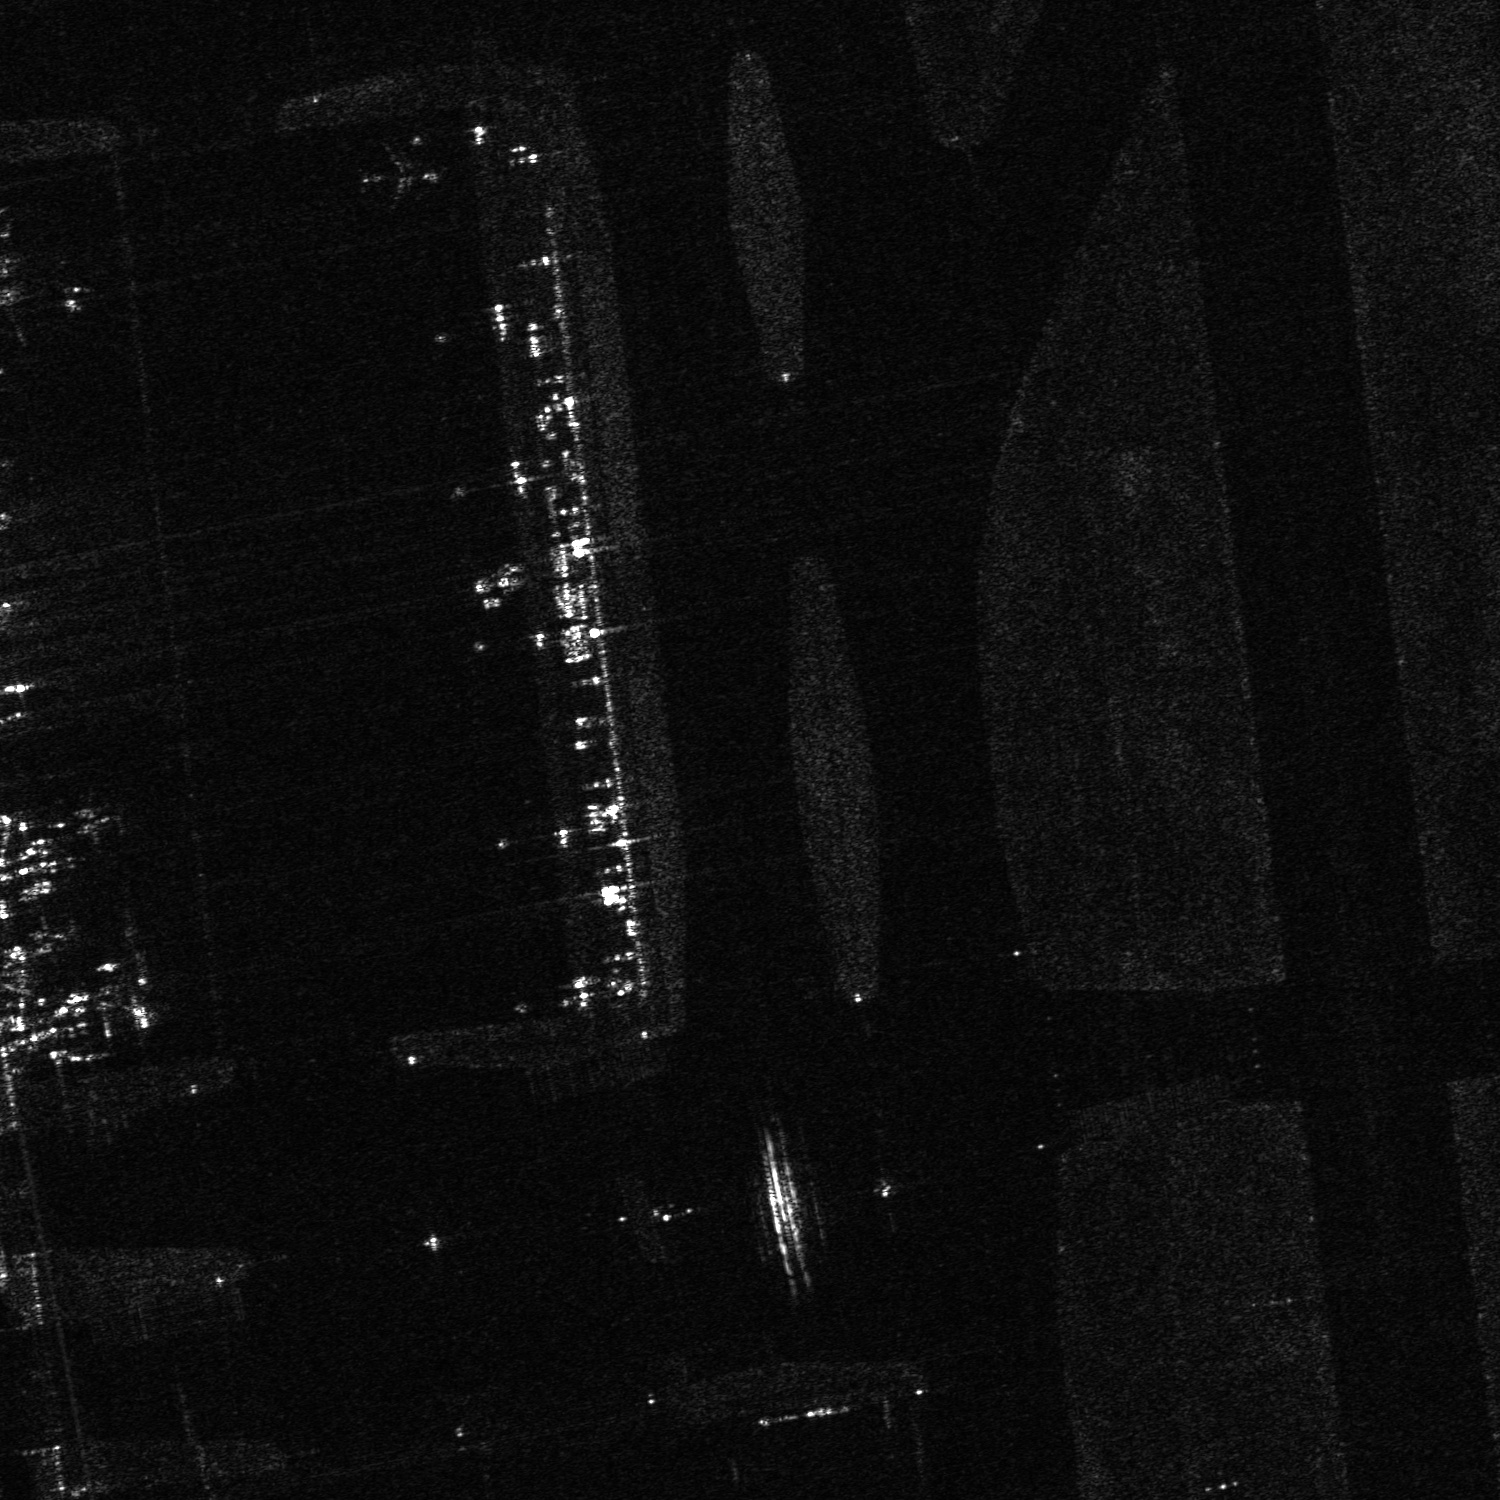Boeing737: (350, 140, 445, 213), (91, 977, 157, 1040)
